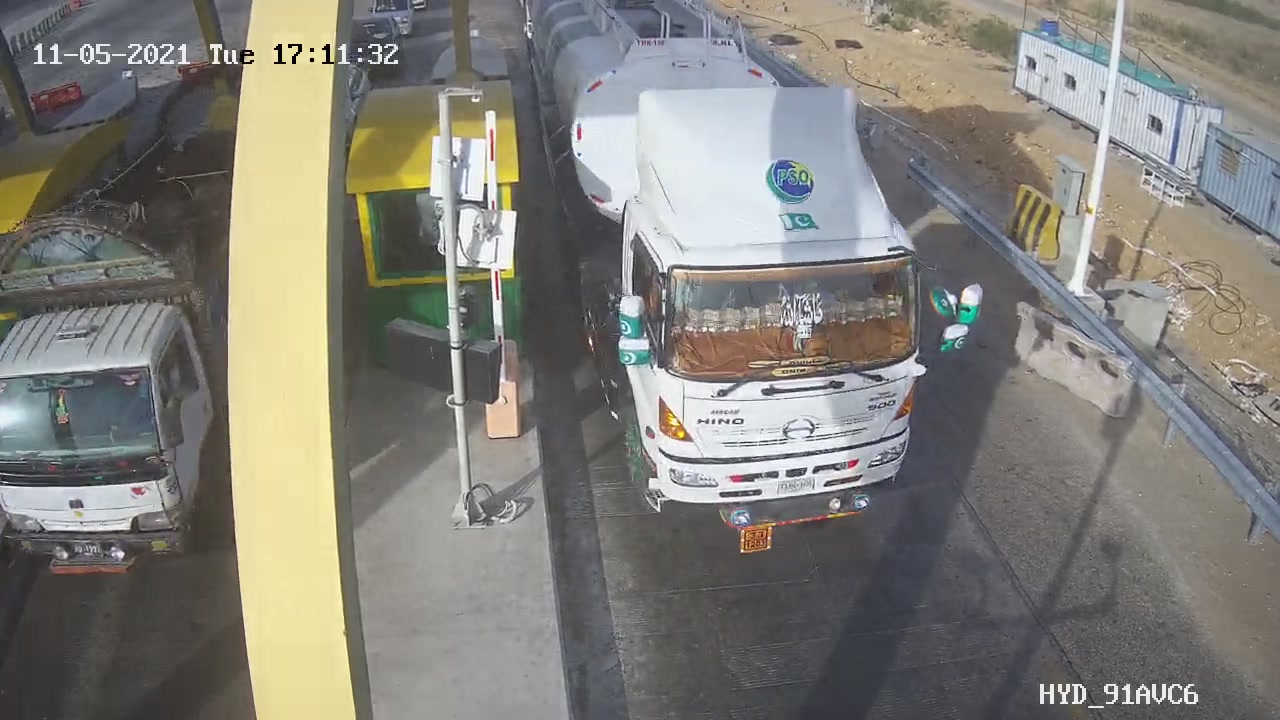F6: (517, 1, 1011, 585)
